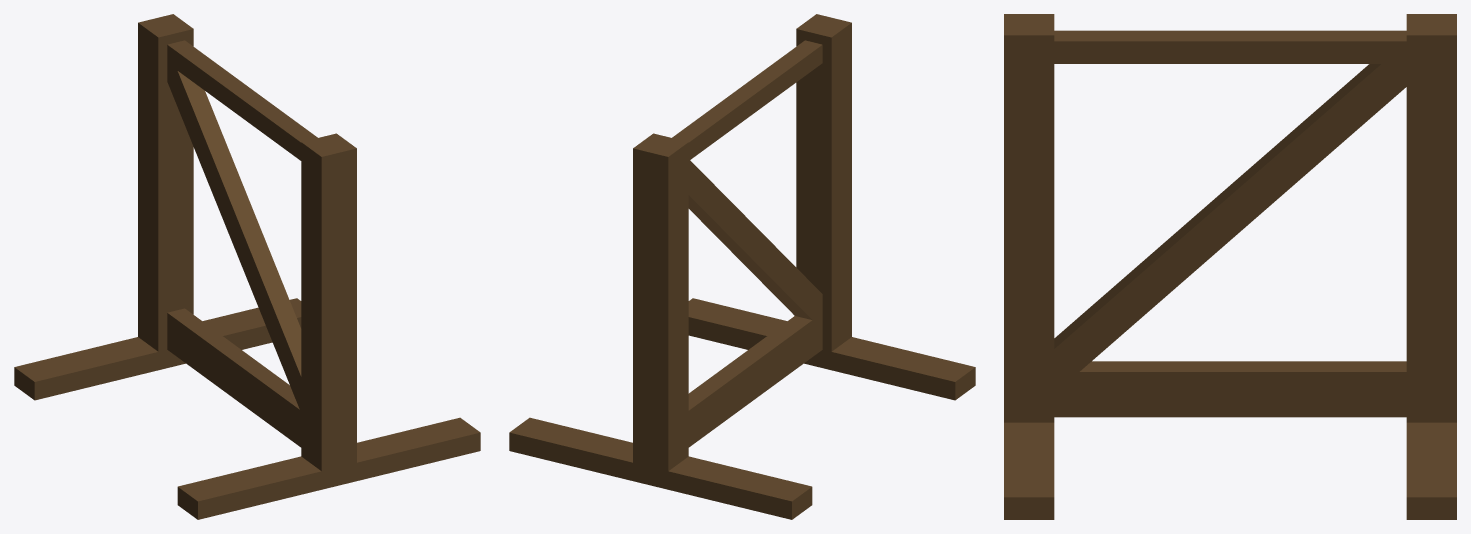
File: AxeStand.fbx
The picture shows the model from 3 angles, left to right: view 1: azimuth 30°, elevation 25°; view 2: azimuth 150°, elevation 25°; view 3: azimuth 270°, elevation 25°; orthographic projection. The views are drawn at different scales.
Parts seen in each view (by area): view 1: AxeStand; view 2: AxeStand; view 3: AxeStand.
Part boxes in pixels (x1,y1,x2,y2): AxeStand: [14, 14, 480, 519]; AxeStand: [509, 14, 975, 519]; AxeStand: [1004, 14, 1456, 519].
Size of the model in its own units: 16 by 18 by 18.
